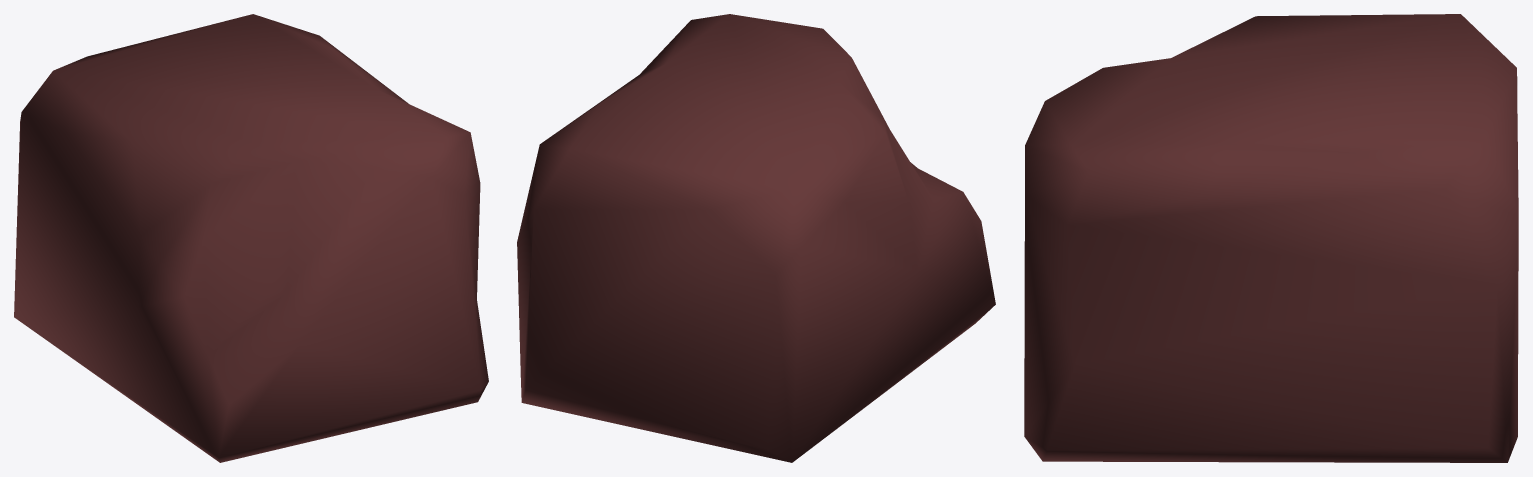
The model's file is SM_large_brick_01.fbx.
3 renders of one model, left to right at view 1: azimuth 30°, elevation 25°; view 2: azimuth 150°, elevation 25°; view 3: azimuth 270°, elevation 25°, orthographic. The views are drawn at different scales.
Visible parts, largest first — view 1: large_brick_01; view 2: large_brick_01; view 3: large_brick_01.
Part boxes in pixels (<box>): large_brick_01: <box>14,14,488,462</box>; large_brick_01: <box>517,14,995,462</box>; large_brick_01: <box>1024,14,1518,462</box>.
Size of the model in its own units: 37.3 by 33.16 by 48.47.
